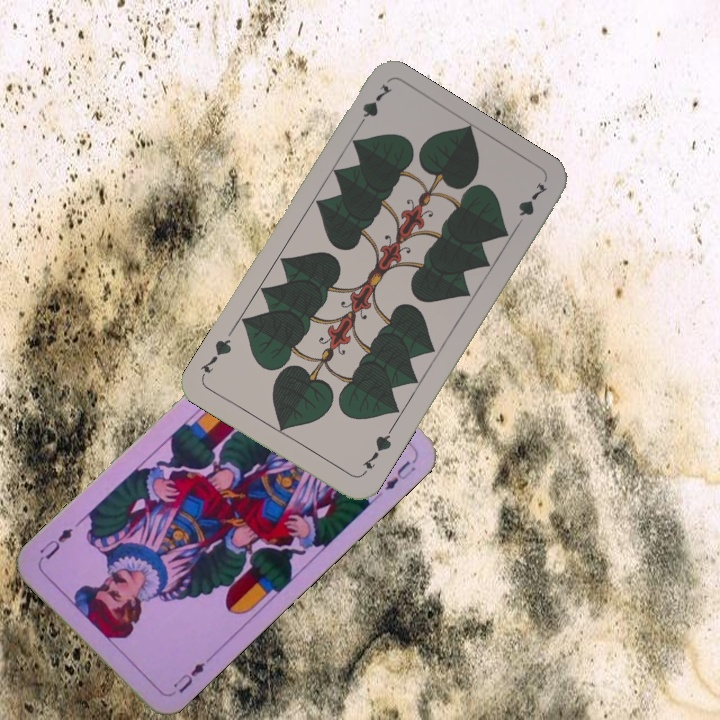EU: (169, 653, 214, 696)
G7: (352, 80, 395, 134), (357, 425, 395, 479)
